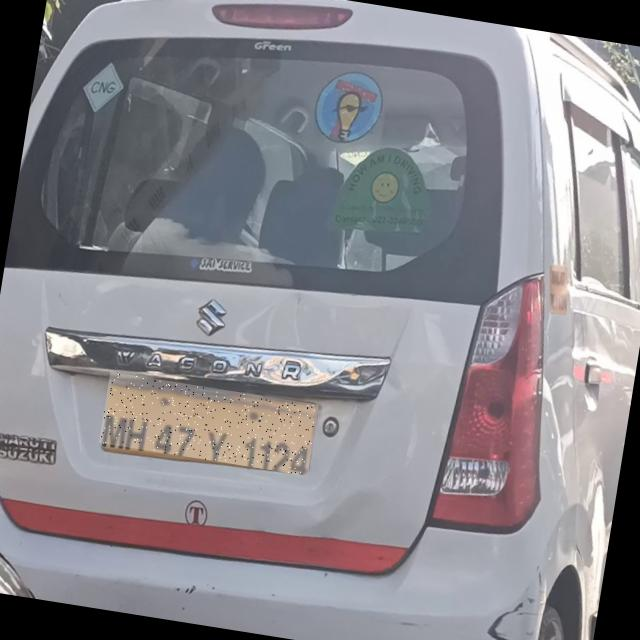Plate: (100, 373, 320, 477)
